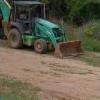Tractor: (9, 3, 73, 61)
